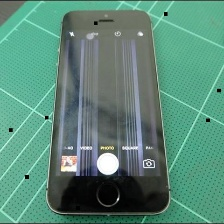phone: (41, 6, 174, 219)
